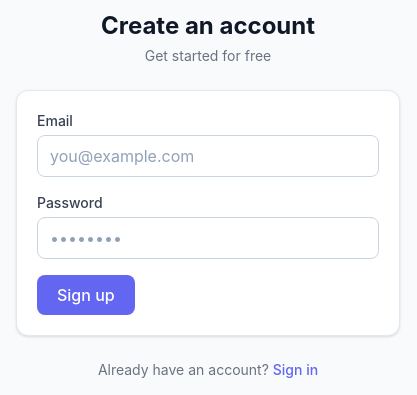
Test: should_disable_submit_button_while_signing_up
The width and height of the screenshot is (417, 395).
Click the button "Sign up" at {"x": 86, "y": 295}, box [37,275,135,315]
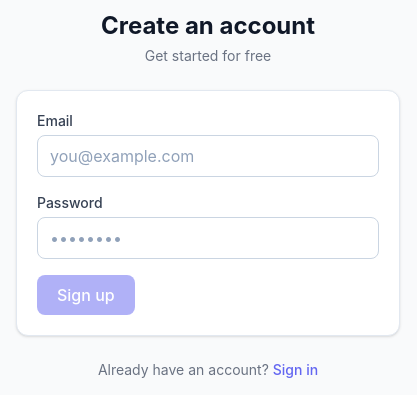
Expected: the button "Sign up" is disabled, [37,275,135,315]
